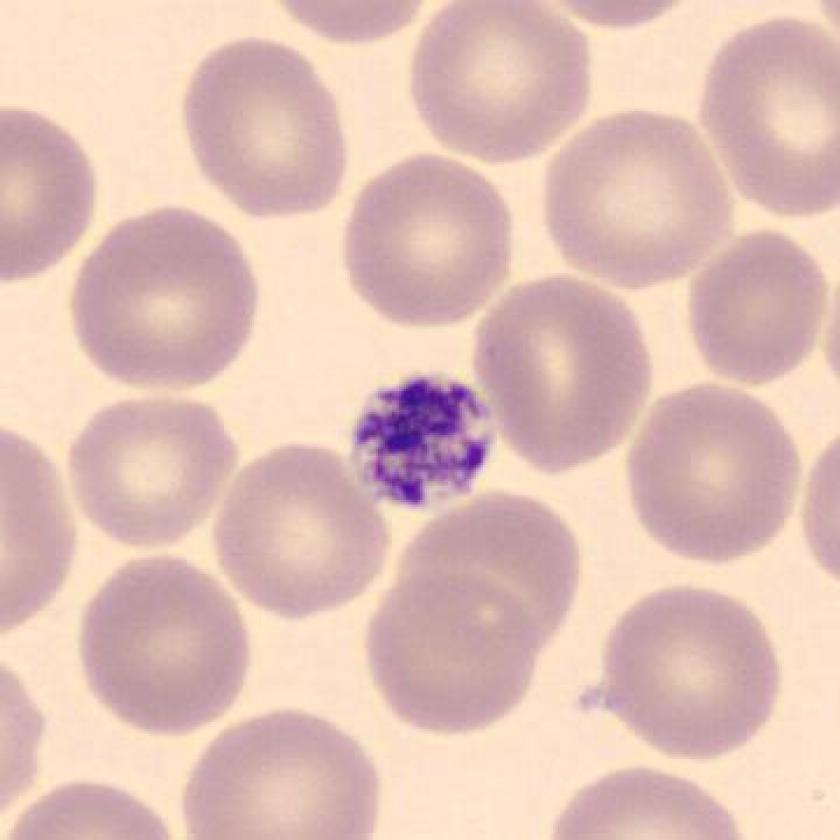platelets: (349, 367, 500, 515)
